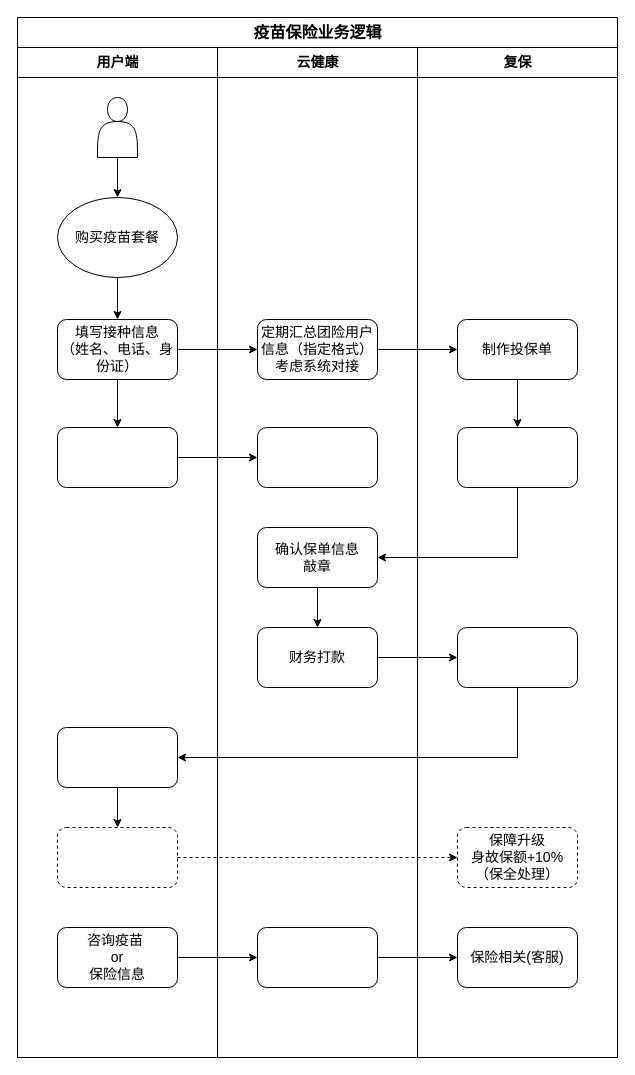
Some shapes in this 635 by 1075 pixel diagram are drawn without their labels. Each missing label, with the centre of its shape:
"保单统一承保 频率同实际结算" belongs at (x=517, y=657).
"前往指定机构接种" belongs at (x=117, y=457).
"已完成相关任务 如接种疫苗" belongs at (x=117, y=857).
"收到个人凭证 加入STAR计划" belongs at (x=117, y=757).
"核销接种信息" belongs at (x=317, y=457).
"疫苗相关(客服)" belongs at (x=317, y=957).
"财务交款单" belongs at (x=517, y=457).
